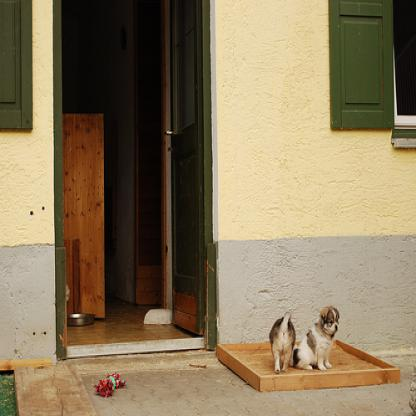dog: (293, 306, 339, 372), (269, 308, 296, 375)
